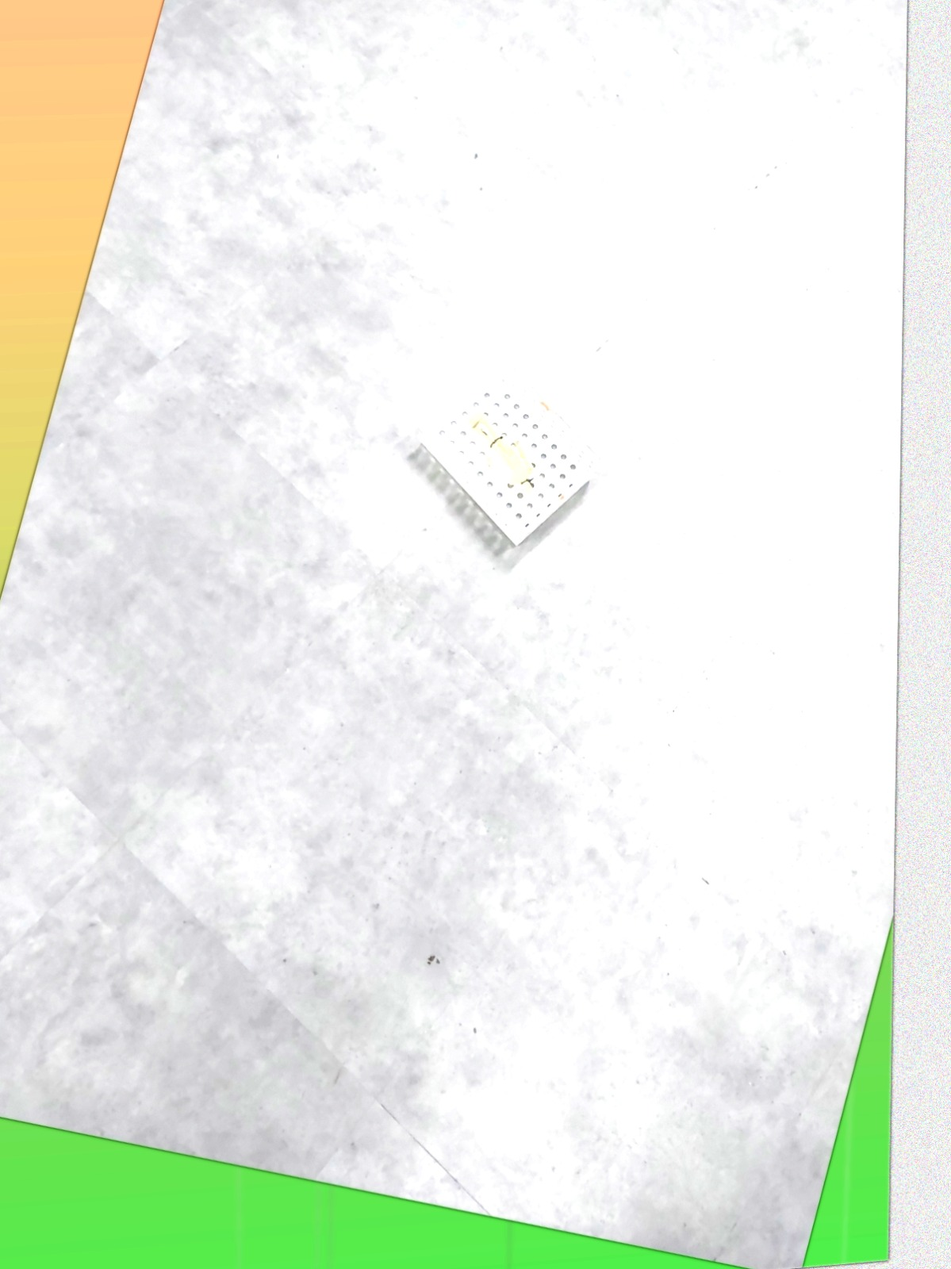basket: (403, 364, 594, 555)
mannequin: (460, 407, 541, 492)
